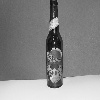beer: (46, 1, 68, 88)
